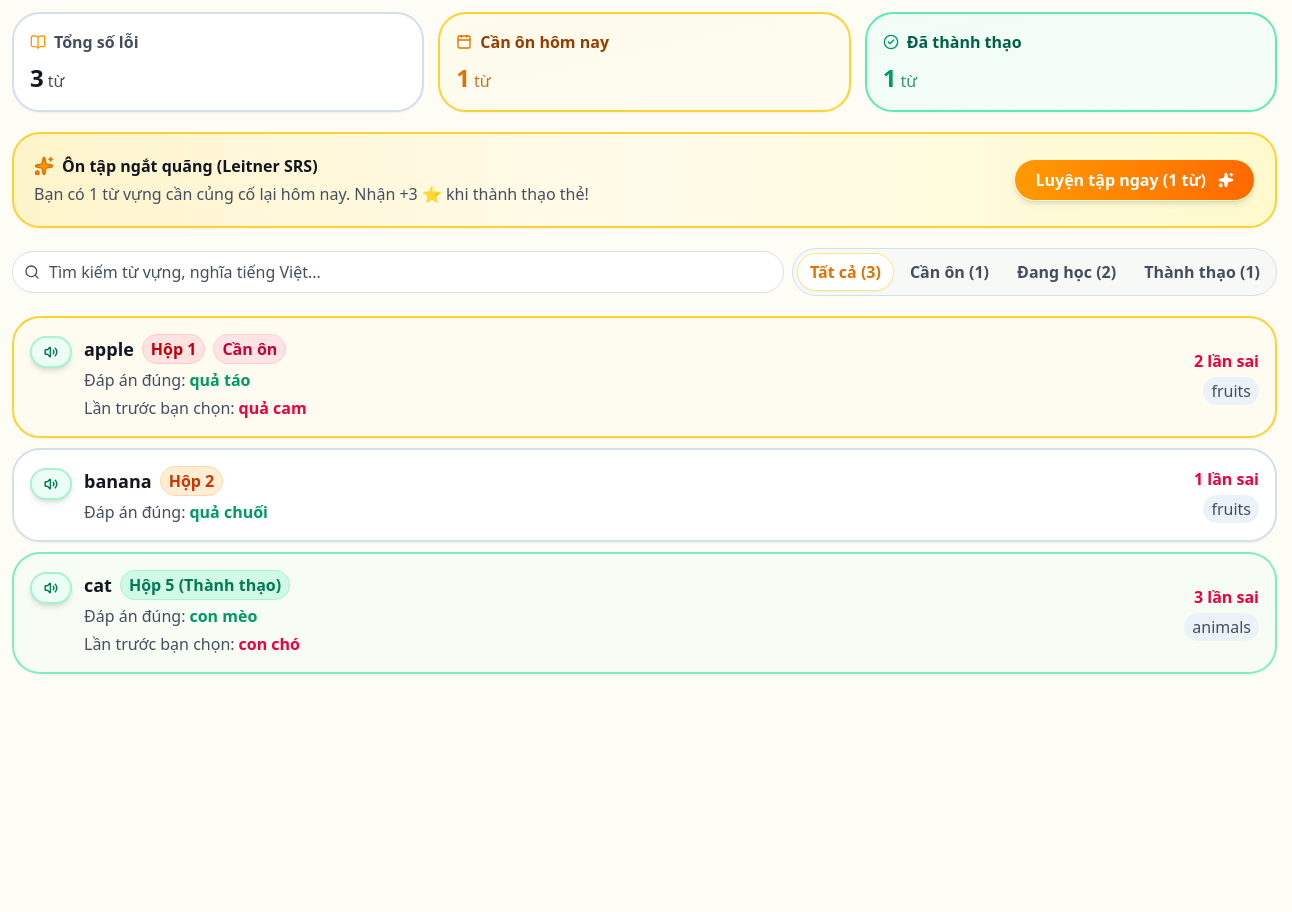
MistakeNotebookTab Component › clicking "Luyện tập ngay" launches SrsPracticeArena
The width and height of the screenshot is (1292, 912).
Click the button "Luyện tập ngay (1 từ)": (1135, 180) x1=1014 y1=159 x2=1255 y2=201
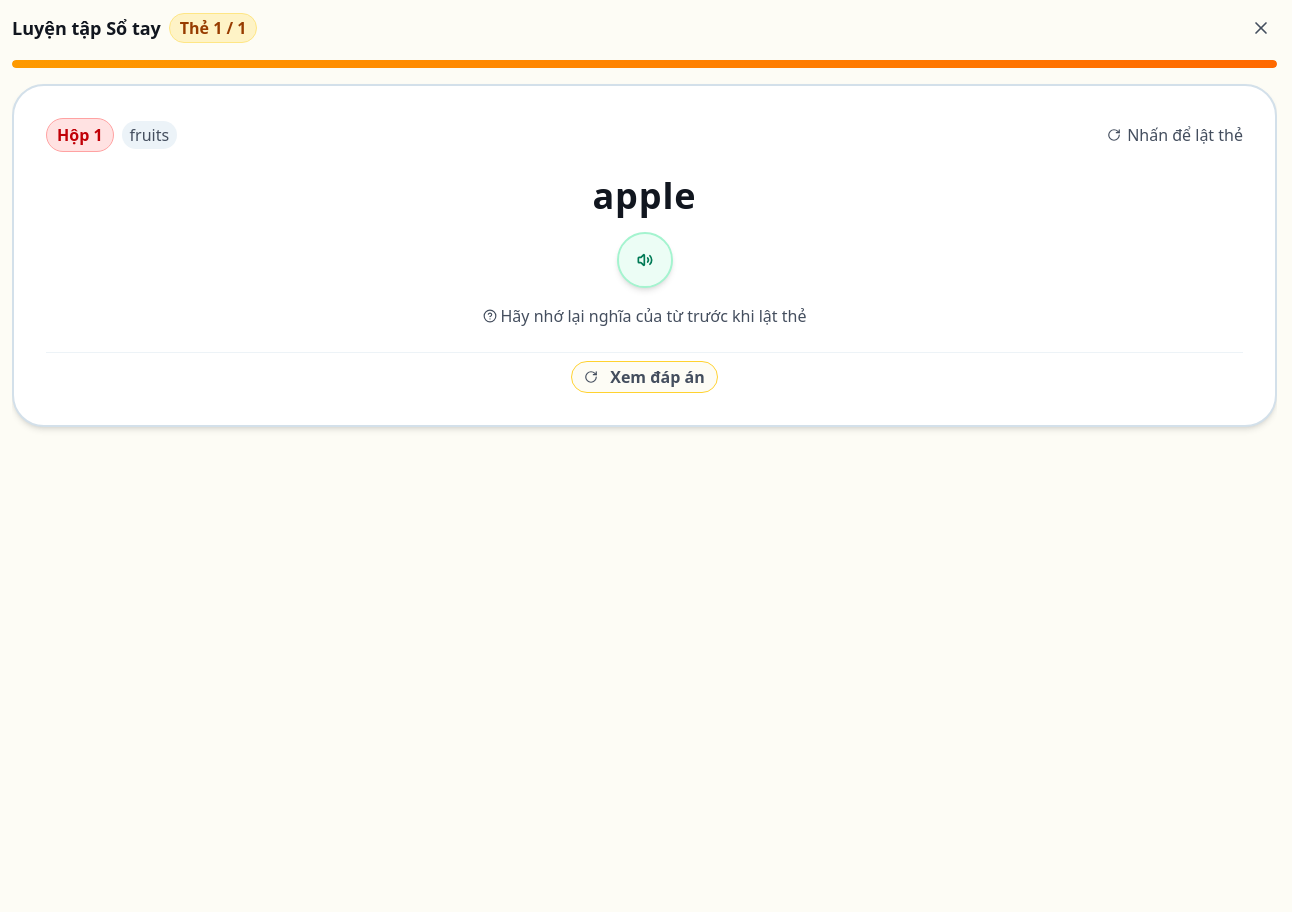
Now the text "Thẻ 1 / 1" is shown, box x1=169 y1=13 x2=258 y2=43
Now the button "Xem đáp án" is shown, box x1=571 y1=361 x2=718 y2=393
